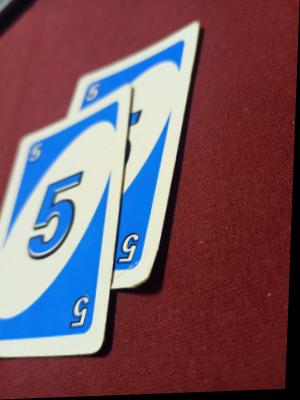blue: (15, 142, 108, 342), (118, 64, 163, 272)
num_5: (69, 294, 98, 334), (120, 230, 143, 269), (25, 143, 46, 164), (86, 84, 104, 103)
